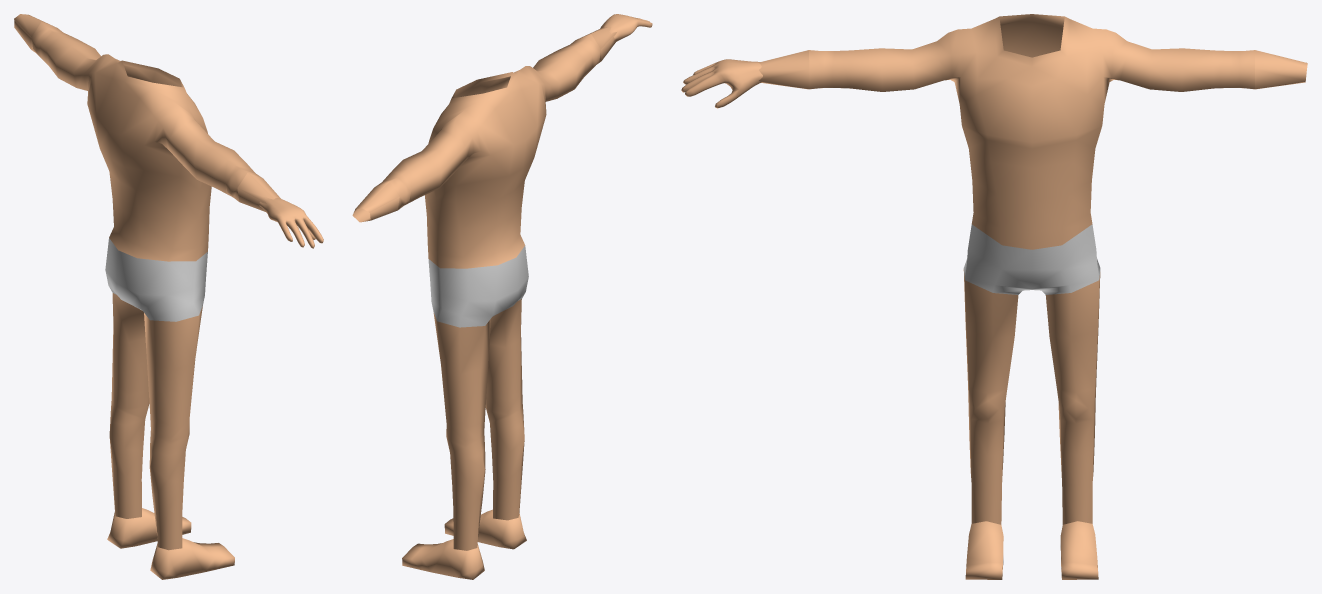
The picture shows the model from 3 angles, left to right: view 1: azimuth 30°, elevation 25°; view 2: azimuth 150°, elevation 25°; view 3: azimuth 270°, elevation 25°; orthographic projection. The views are drawn at different scales.
Visible parts, largest first — view 1: chest, legs, naked_steps, Cube.001; view 2: chest, legs, naked_steps, Cube.001; view 3: chest, legs, naked_steps, Cube.001.
Part boxes in pixels (x1=…): chest: x1=14, y1=14, x2=280, y2=261; legs: x1=105, y1=238, x2=207, y2=550; naked_steps: x1=107, y1=508, x2=234, y2=579; Cube.001: x1=259, y1=196, x2=323, y2=248; chest: x1=352, y1=27, x2=616, y2=268; legs: x1=428, y1=245, x2=528, y2=550; naked_steps: x1=402, y1=509, x2=526, y2=579; Cube.001: x1=600, y1=14, x2=652, y2=41; chest: x1=758, y1=14, x2=1307, y2=249; legs: x1=963, y1=224, x2=1100, y2=524; naked_steps: x1=965, y1=521, x2=1098, y2=579; Cube.001: x1=681, y1=59, x2=762, y2=108.
Bounding box in the file's own units: 0.3753 × 1.8 × 1.94.
